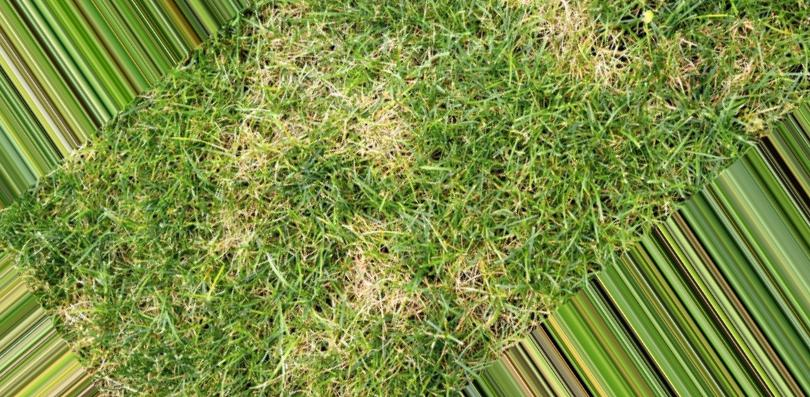patch: (276, 71, 374, 125), (326, 105, 402, 150), (350, 260, 391, 300)
